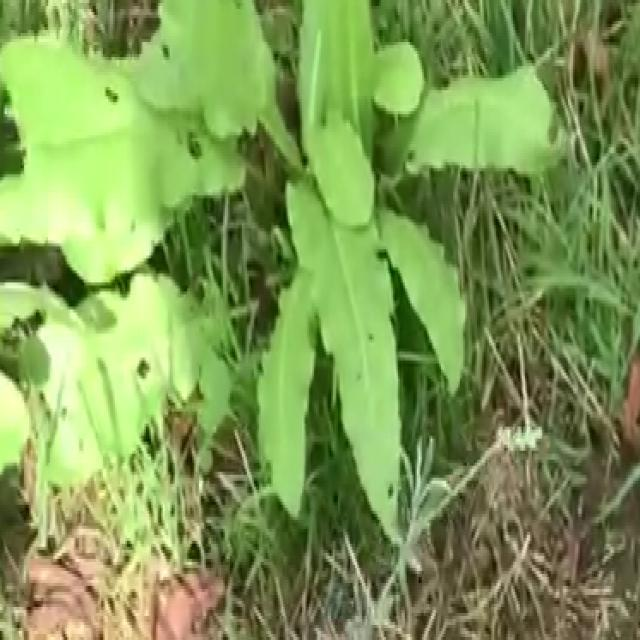organic waste: (5, 0, 582, 517)
